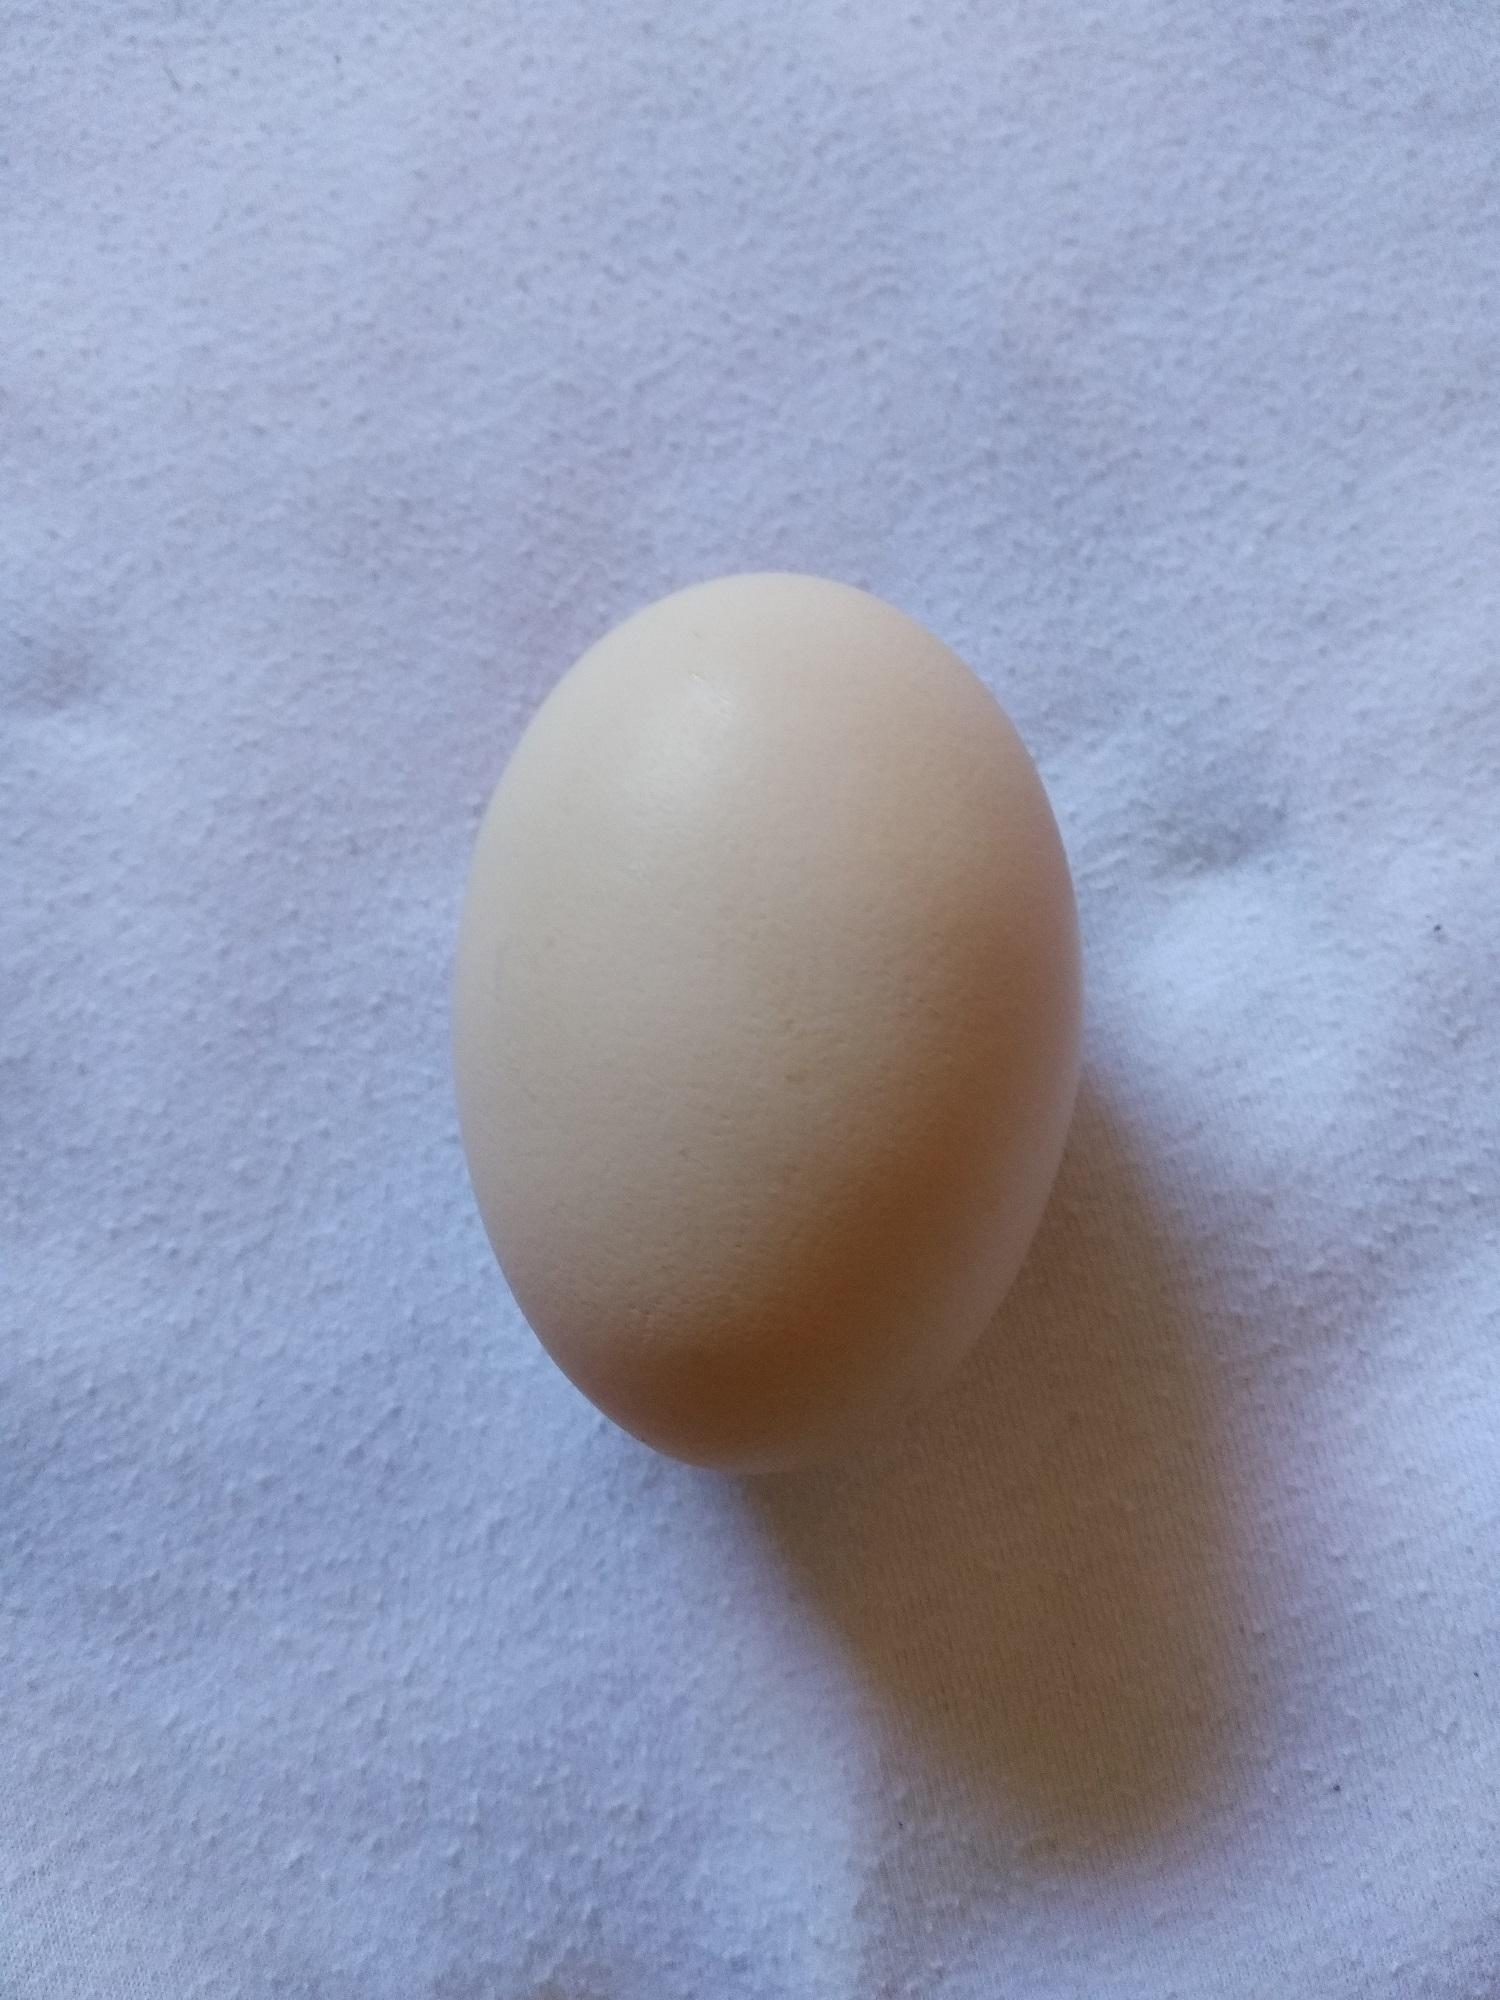Male: (443, 564, 1093, 1499)
